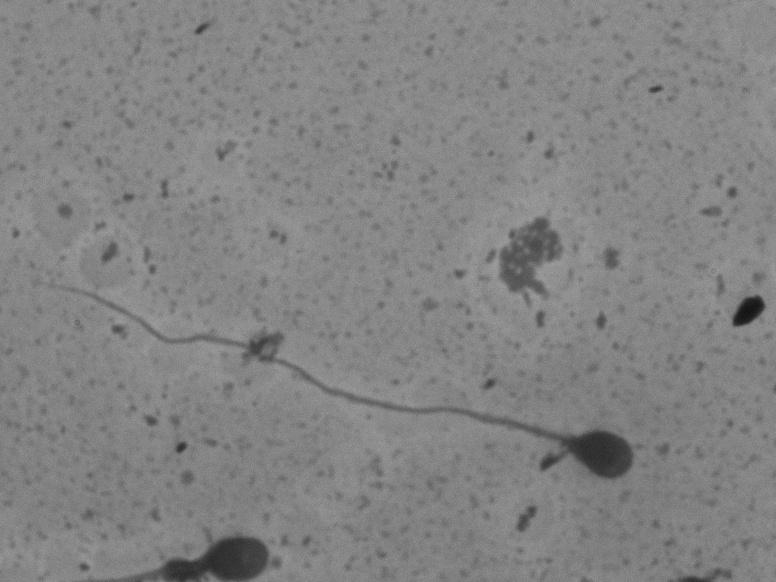Normal: (20, 254, 645, 502)
